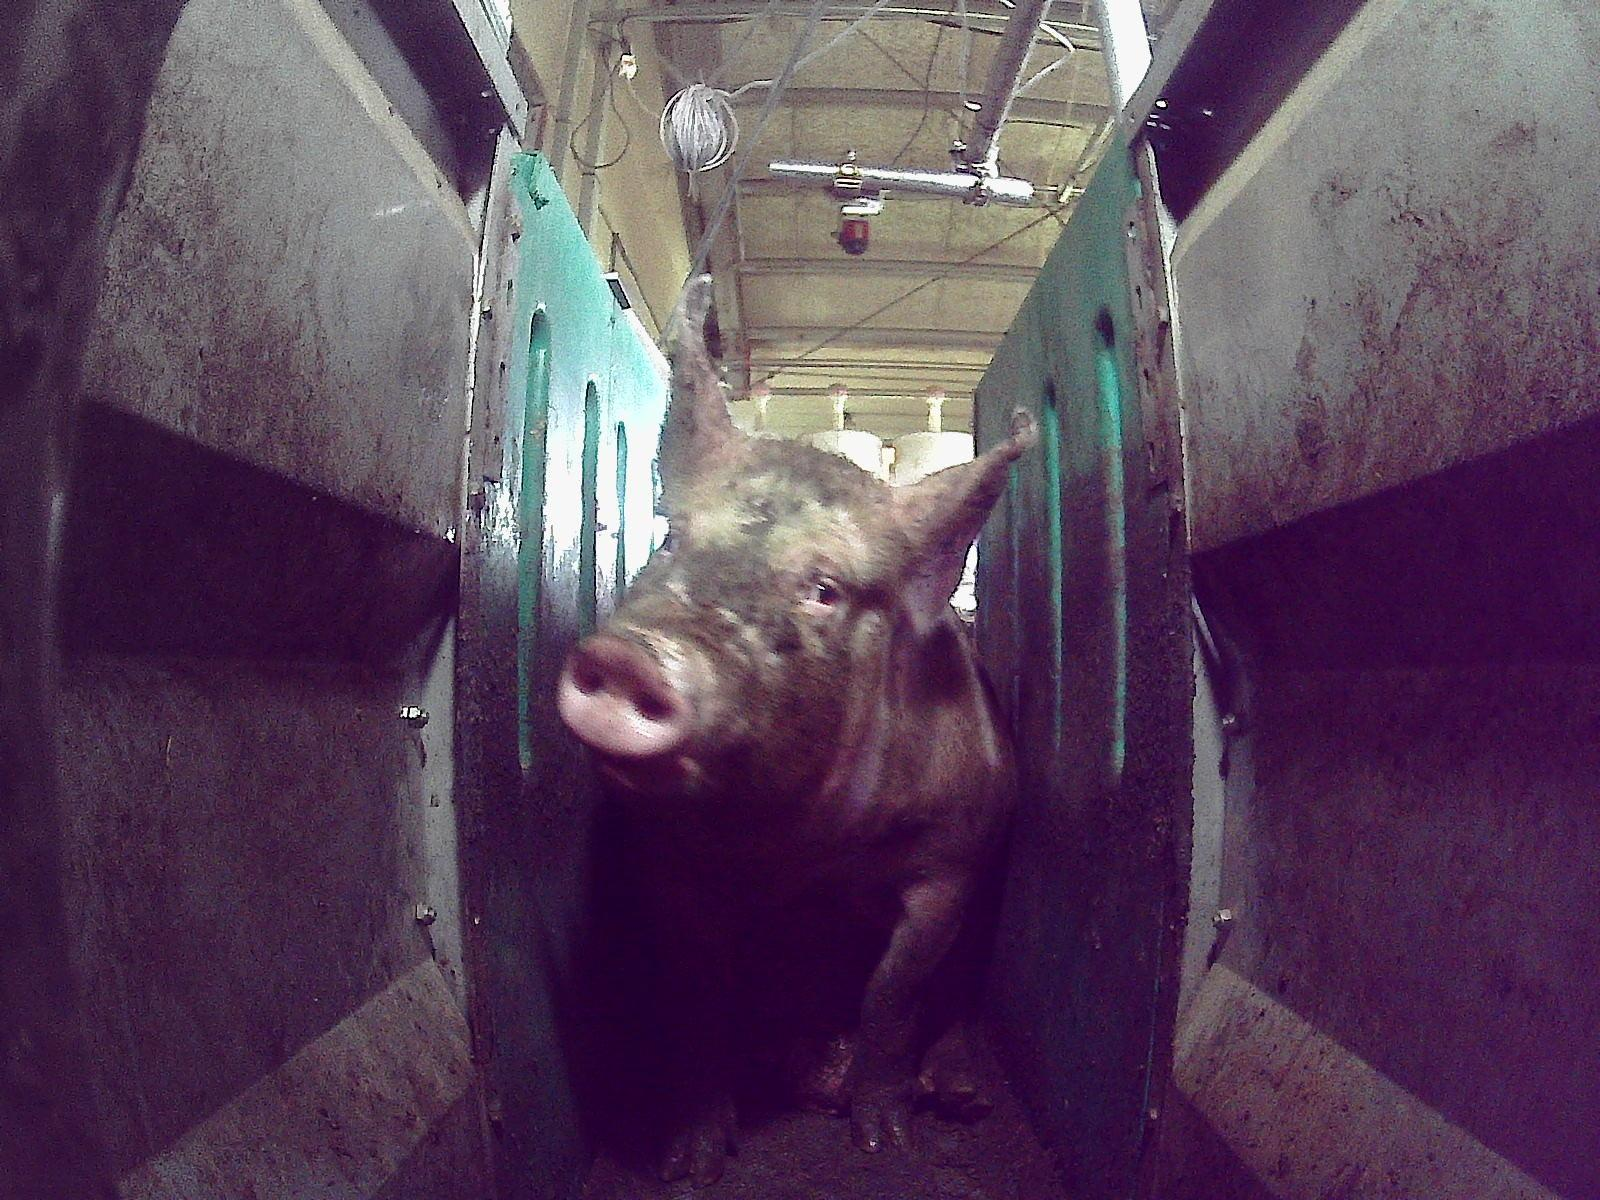Face: (553, 433, 931, 850)
